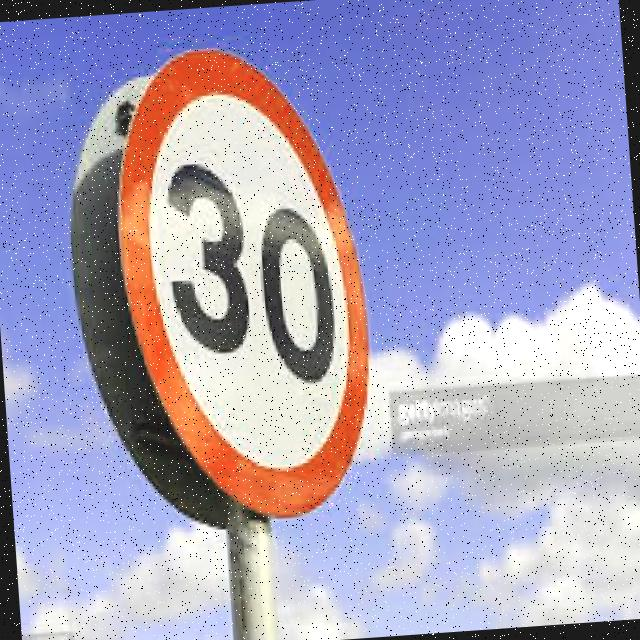Ograniczenie predkosci do 30: (110, 41, 386, 524)
